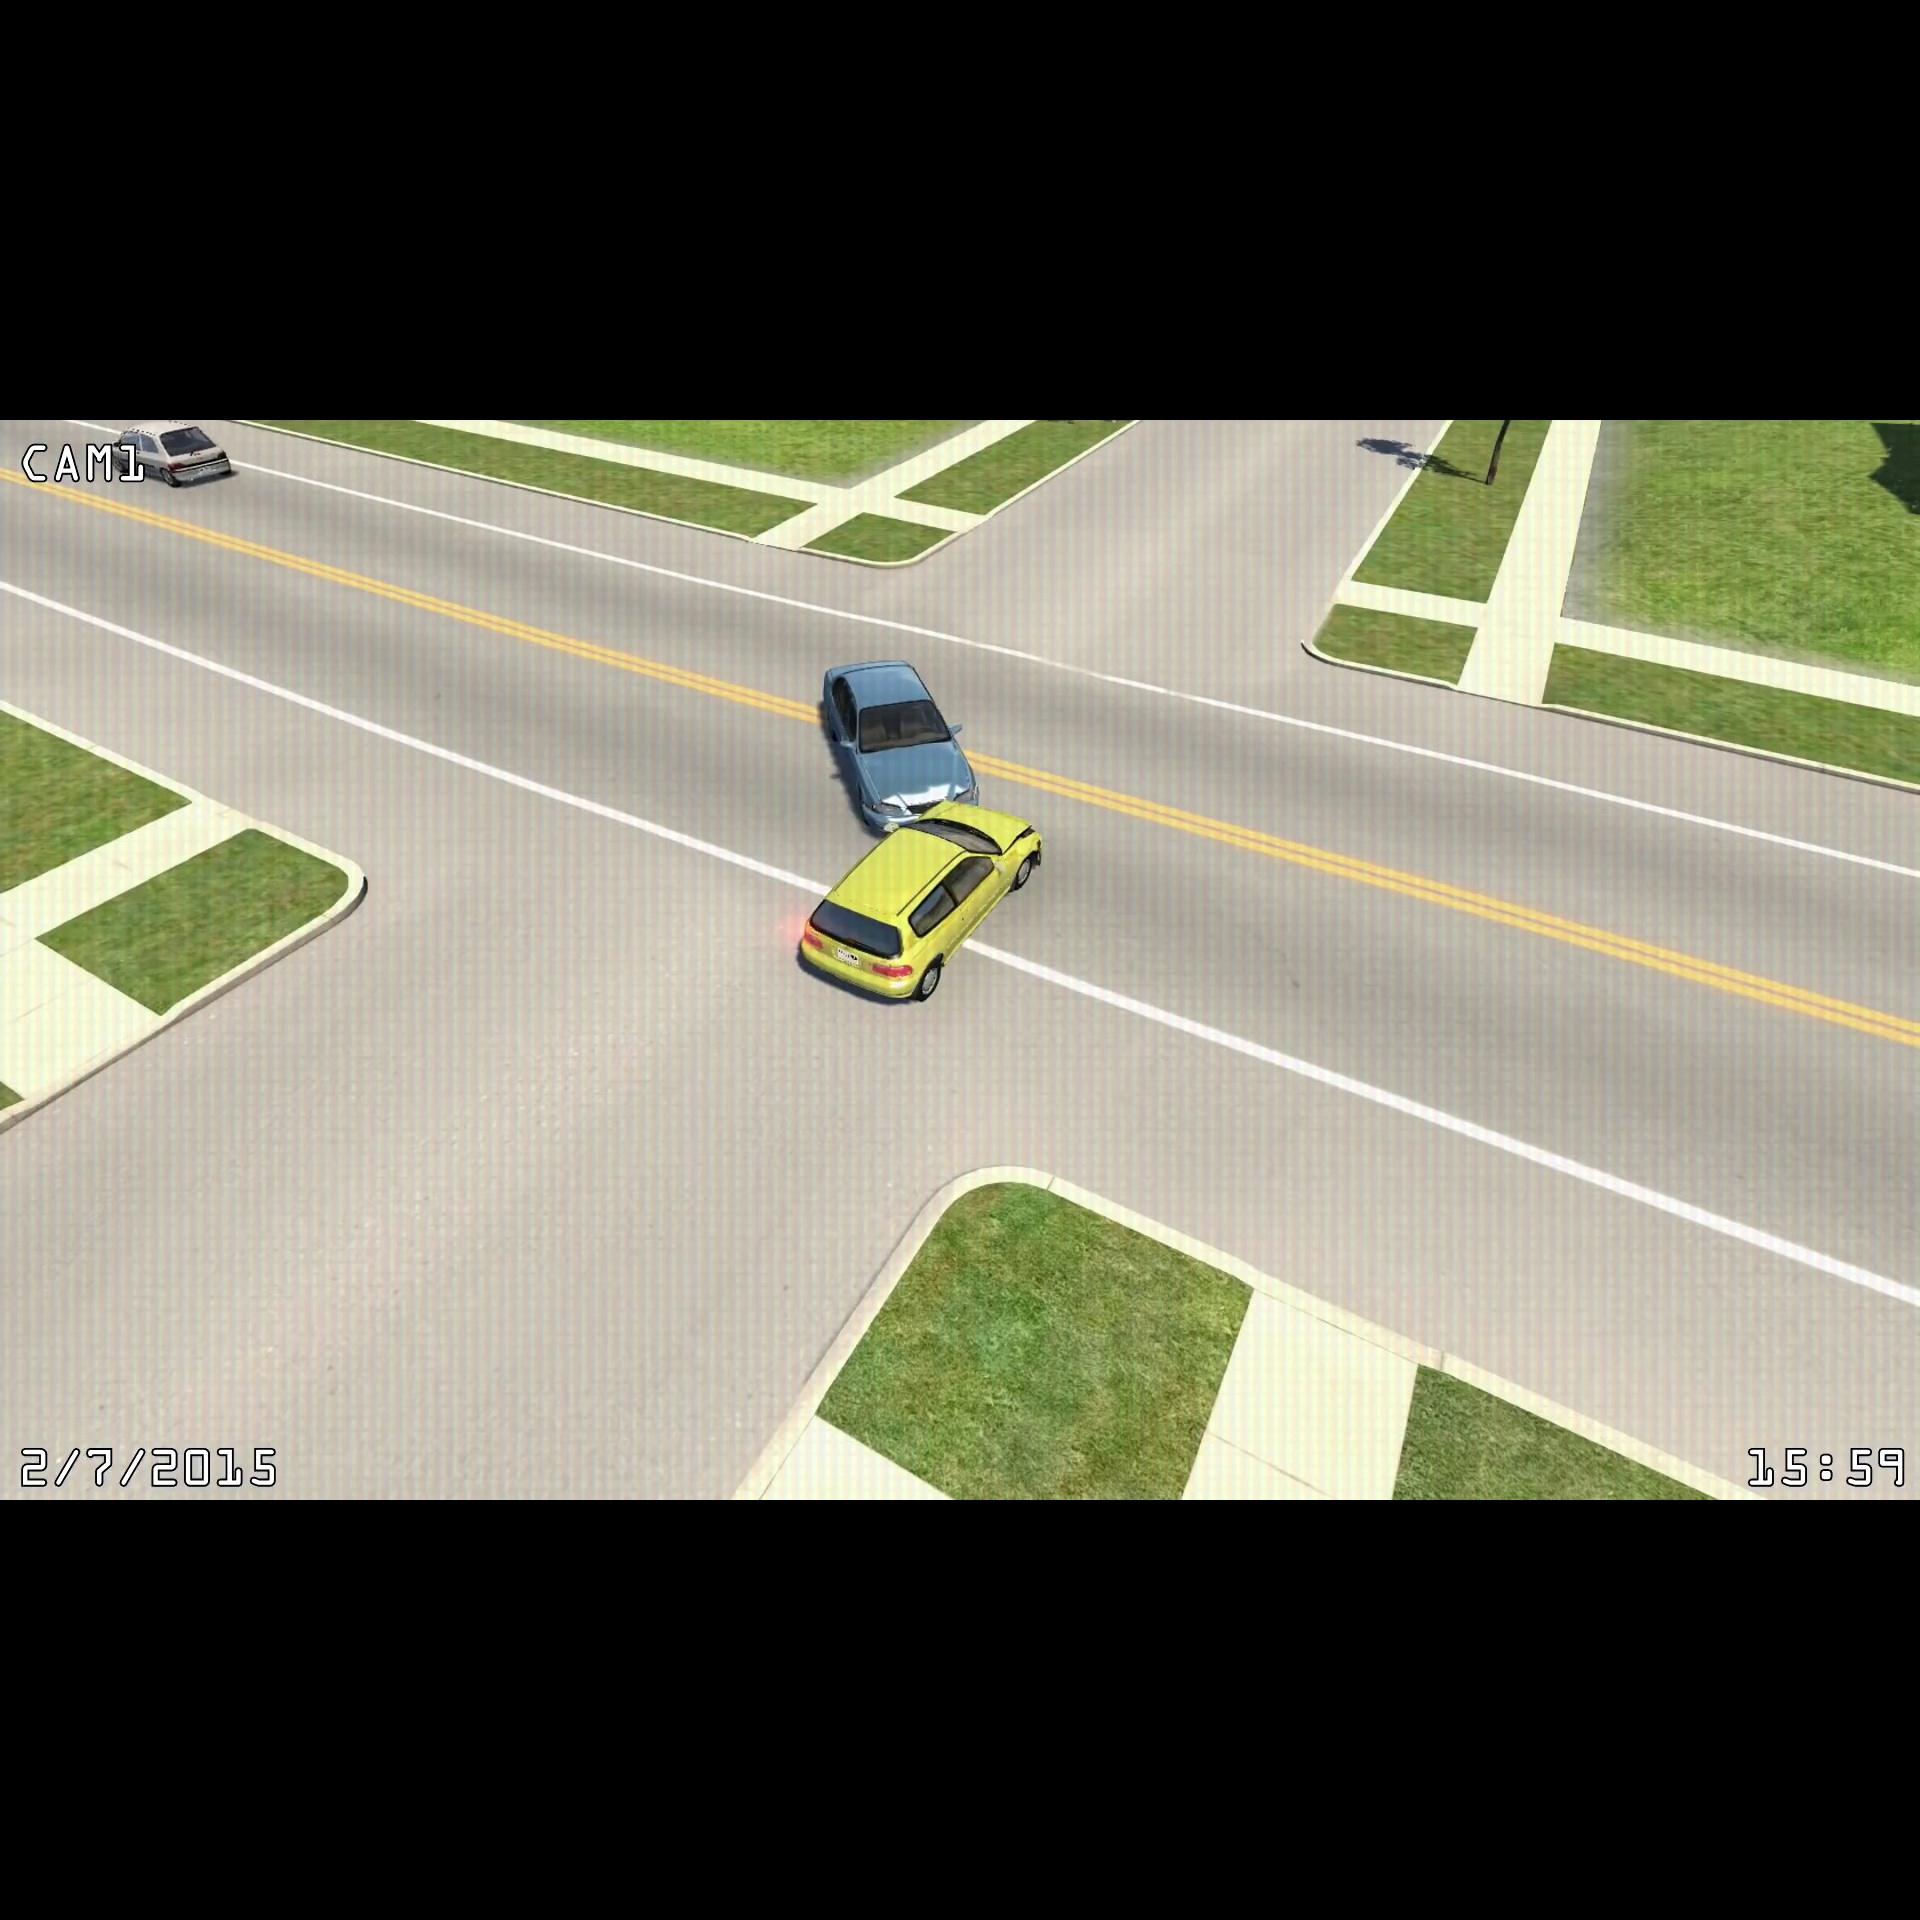vehicle: (788, 789, 1051, 1015), (809, 649, 988, 840), (100, 422, 239, 492)
